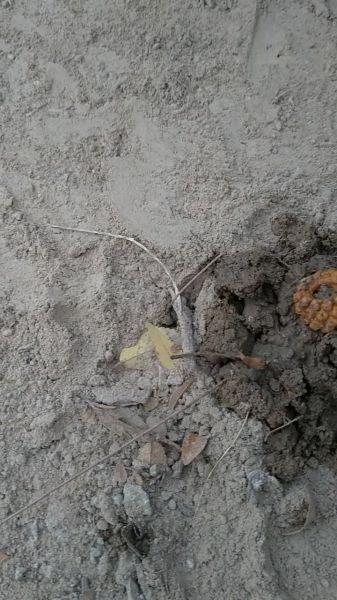eggs: (291, 266, 337, 333)
